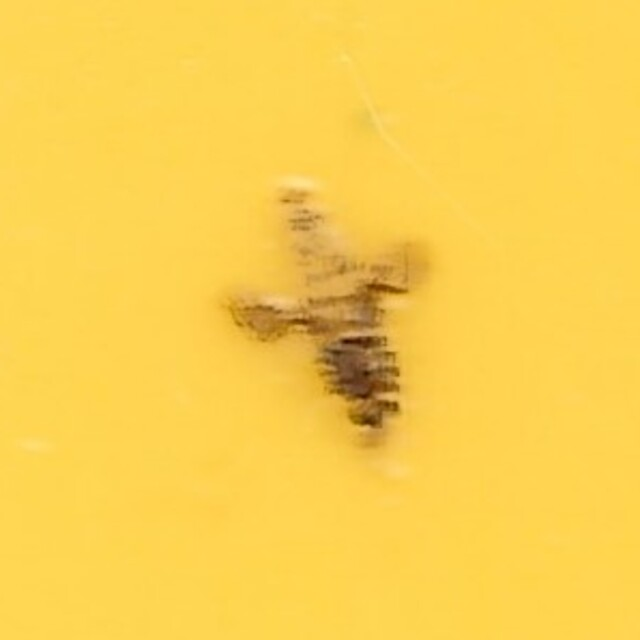Nematocera: (215, 192, 425, 448)
